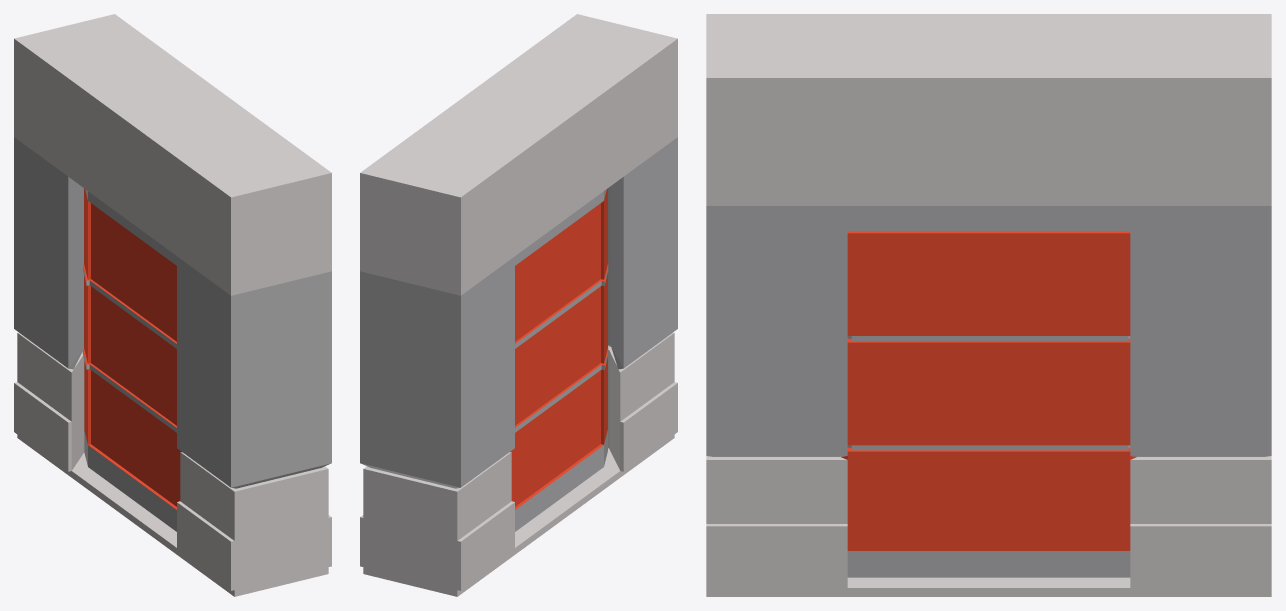
Rendered from door1.fbx.
3 renders of one model, left to right at view 1: azimuth 30°, elevation 25°; view 2: azimuth 150°, elevation 25°; view 3: azimuth 270°, elevation 25°, orthographic. The views are drawn at different scales.
Parts seen in each view (by area): view 1: Doorway, Door; view 2: Doorway, Door; view 3: Doorway, Door.
Boxes of the visible parts, x1,y1,x2,y2 form: Doorway: (14, 14, 331, 596); Door: (82, 188, 181, 531); Doorway: (360, 14, 677, 596); Door: (510, 188, 608, 531); Doorway: (706, 14, 1271, 596); Door: (841, 206, 1136, 577).
Bounding box in the file's own units: 107 × 407 × 400.
